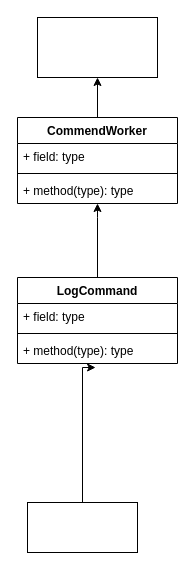
This 195x570 diagram has some shape labels left out. The shapes that lost their labels are listed below. From the top down, each one's centre as x and y in pixels, then its label:
At point (97, 47): "app.ts".
At point (82, 527): "«interface» ICommand".
